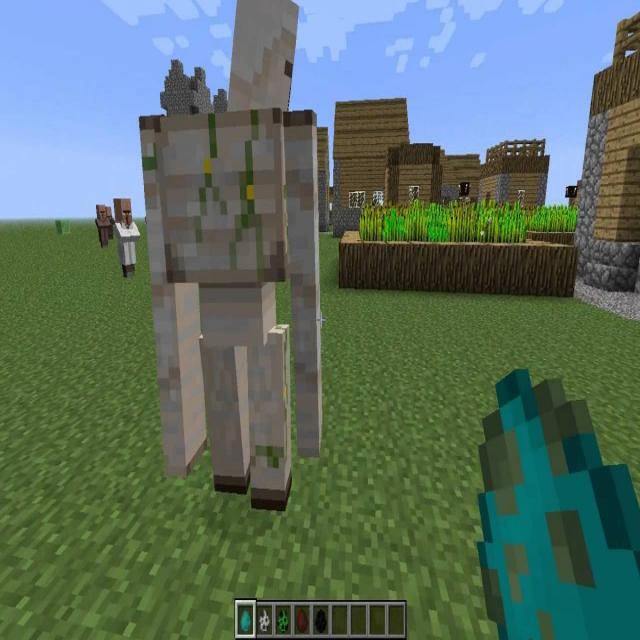Iron Golem: (138, 0, 326, 516)
